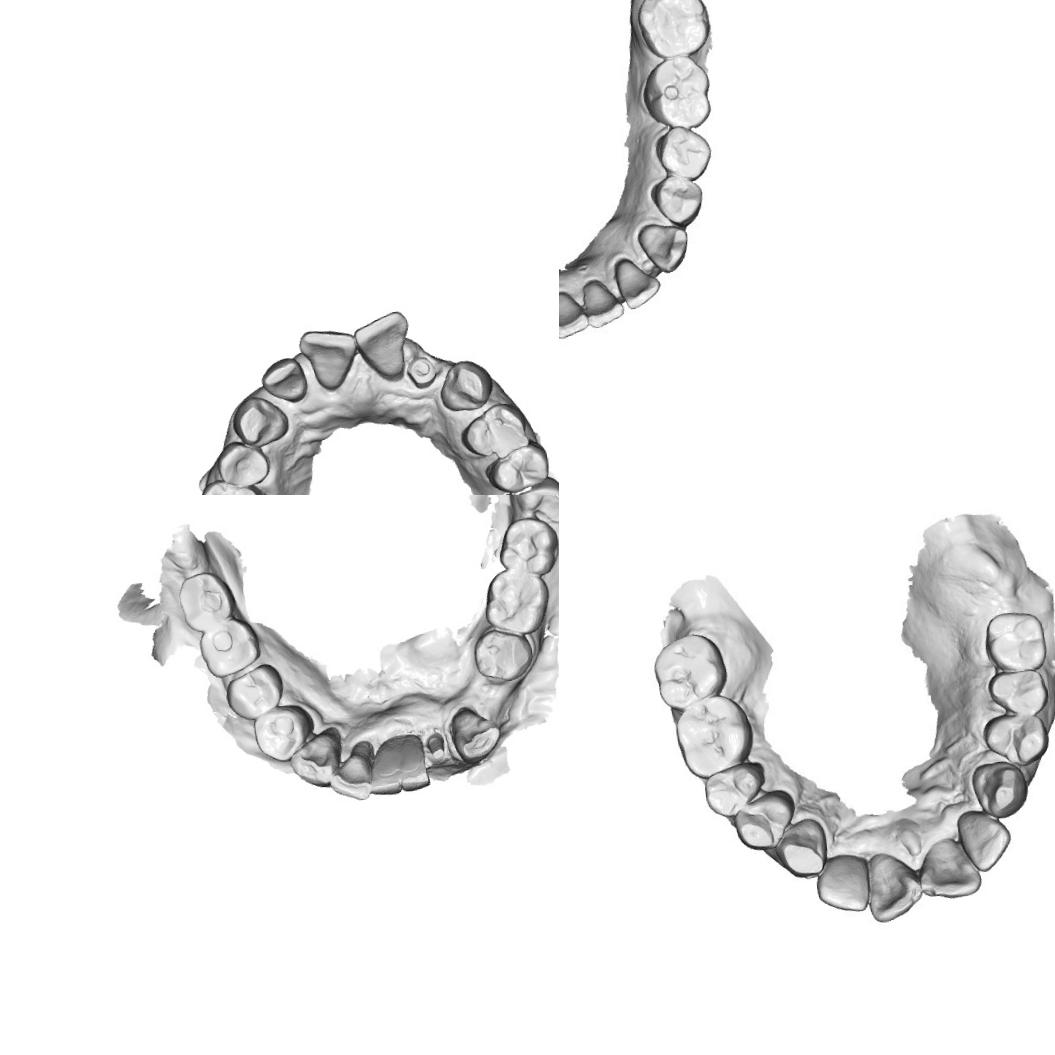abutment: (426, 731, 448, 761)
canine: (286, 725, 346, 792), (448, 701, 504, 766), (228, 393, 290, 451), (972, 757, 1034, 815), (635, 218, 692, 280), (436, 356, 496, 414), (780, 821, 838, 881)
implant: (404, 353, 438, 390)
incisor: (862, 844, 929, 926), (350, 308, 415, 383), (916, 832, 982, 903), (297, 325, 362, 393), (951, 805, 1013, 876), (812, 850, 872, 919), (325, 738, 378, 804), (612, 255, 659, 312), (258, 355, 310, 406), (365, 734, 402, 798), (581, 276, 626, 328), (395, 731, 431, 793), (559, 287, 590, 342)
molar: (637, 52, 719, 136), (480, 563, 554, 640), (675, 699, 748, 774), (632, 0, 713, 61), (650, 636, 722, 704), (194, 614, 264, 682), (494, 514, 559, 580), (176, 569, 240, 635), (984, 607, 1046, 670), (498, 473, 559, 495)
premolar: (458, 400, 530, 463), (250, 700, 318, 766), (222, 659, 288, 723), (482, 437, 554, 494), (470, 626, 536, 686), (645, 170, 706, 234), (653, 126, 716, 182), (985, 711, 1052, 762), (989, 665, 1048, 720), (736, 794, 797, 846), (701, 764, 762, 815), (215, 437, 273, 490), (198, 473, 271, 495)
